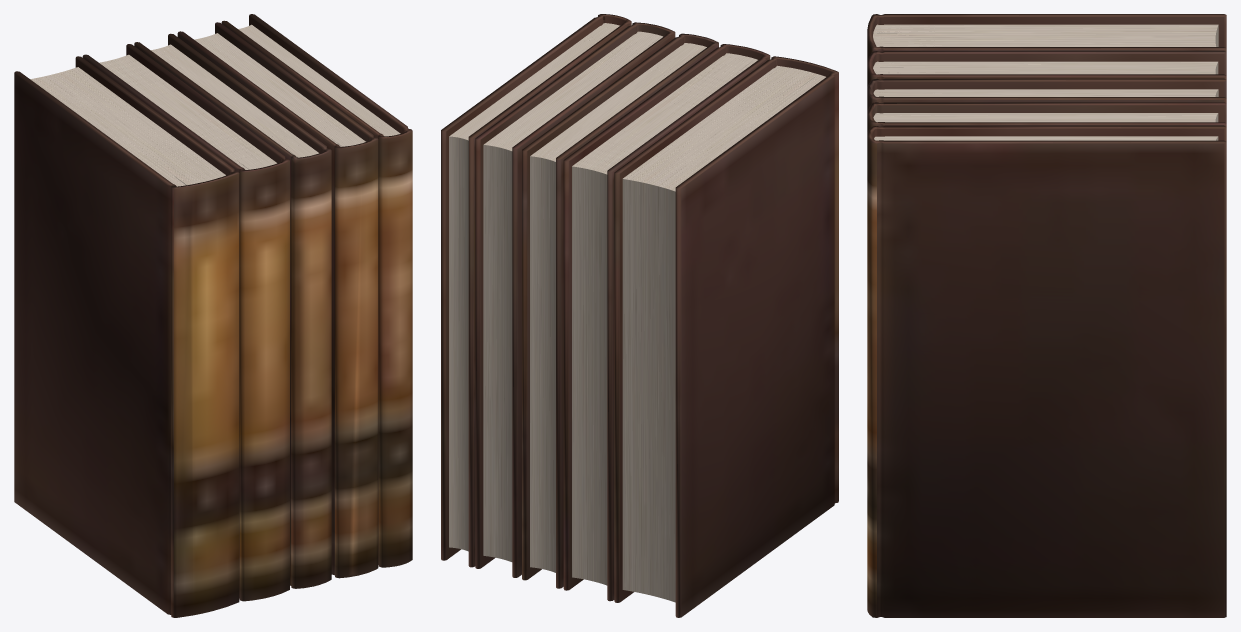
The model's file is volumes-low.glb.
3 views of the same model, side by side, from view 1: azimuth 30°, elevation 25°; view 2: azimuth 150°, elevation 25°; view 3: azimuth 270°, elevation 25° (orthographic). The views are drawn at different scales.
Visible parts, largest first — view 1: book_encyclopedia_set_01_book01; view 2: book_encyclopedia_set_01_book01; view 3: book_encyclopedia_set_01_book01.
Boxes of the visible parts, <box> form: book_encyclopedia_set_01_book01: <box>14,14,412,617</box>; book_encyclopedia_set_01_book01: <box>441,14,838,617</box>; book_encyclopedia_set_01_book01: <box>867,14,1226,617</box>.
Bounding box in the file's own units: 0.1392 × 0.2374 × 0.163.
Materials: 2 (2 with a texture image).
